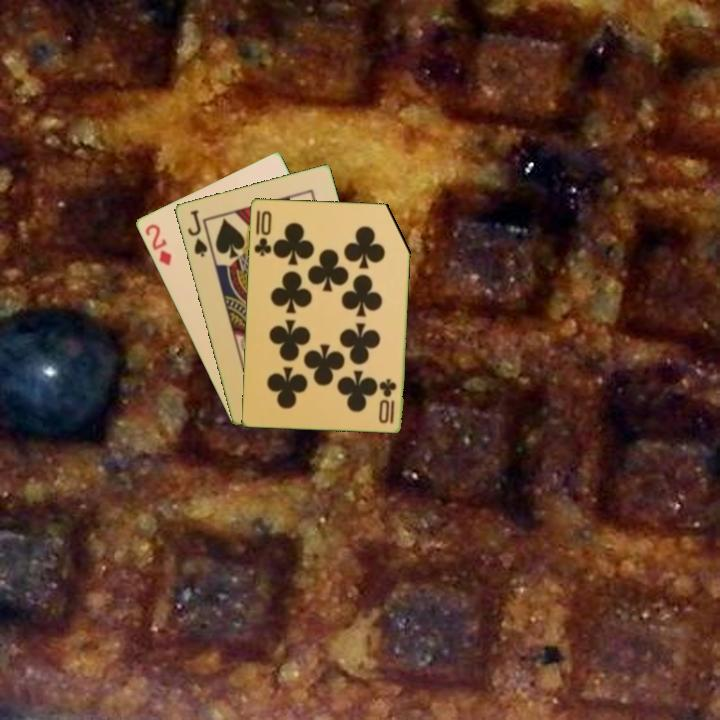10c: (250, 207, 274, 259), (377, 375, 399, 426)
2d: (141, 220, 174, 268)
Js: (184, 206, 210, 260)
